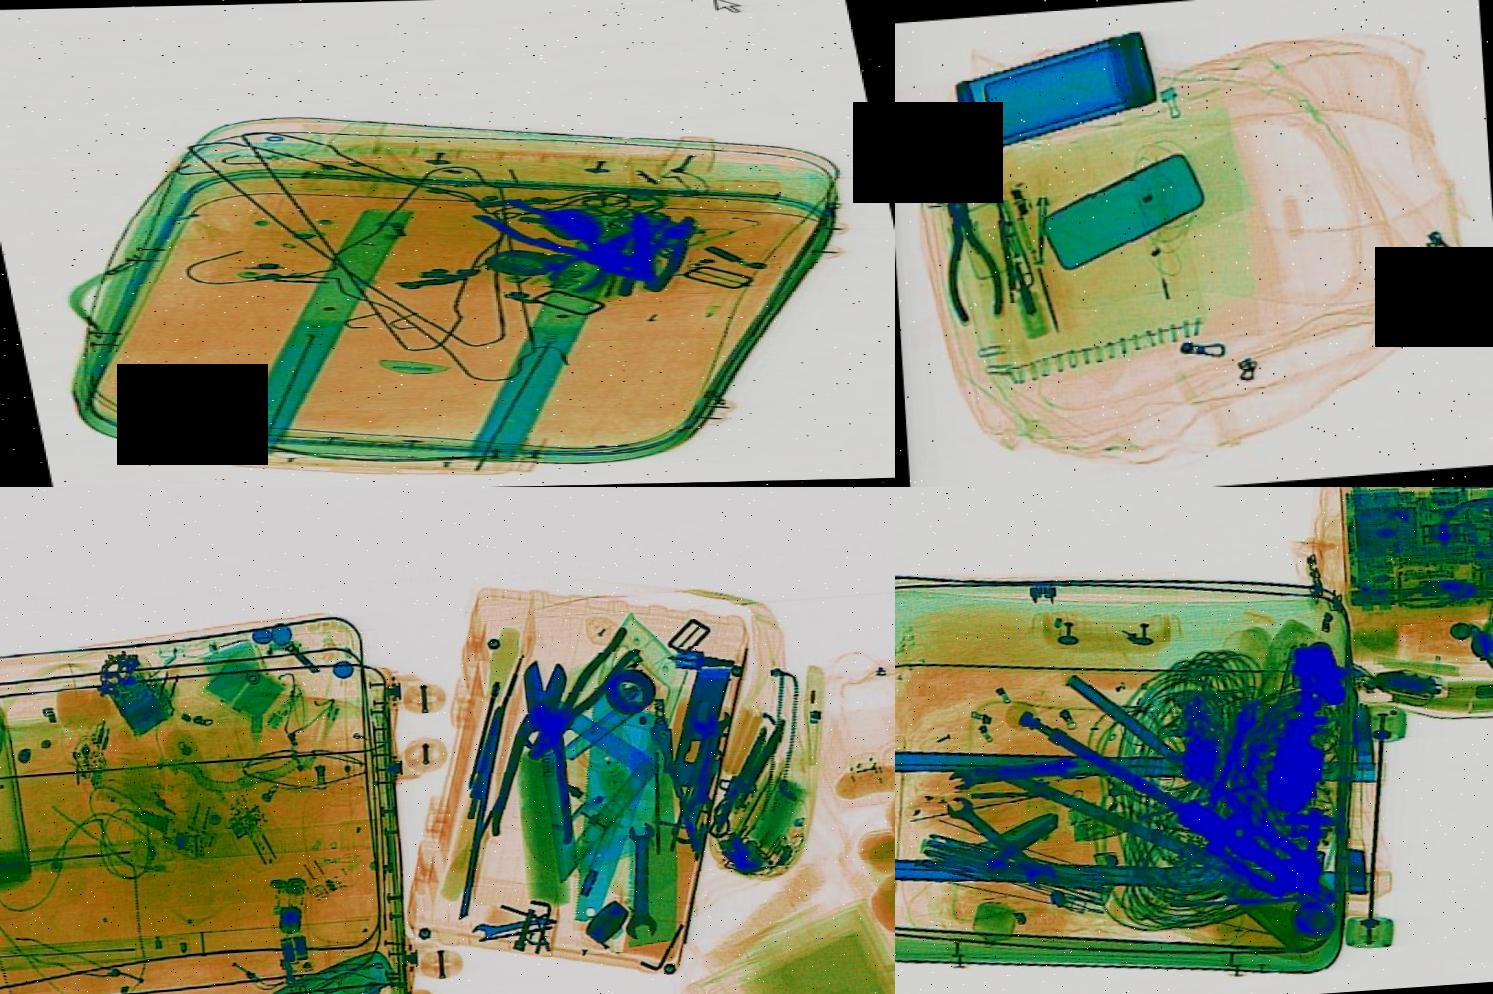Pliers: (949, 649, 1373, 953), (469, 653, 605, 849), (505, 622, 660, 762), (459, 190, 658, 291), (921, 153, 1006, 323), (585, 211, 728, 303), (520, 222, 666, 297)
Wrench: (932, 784, 1064, 897), (613, 820, 667, 939), (943, 752, 1083, 791)
